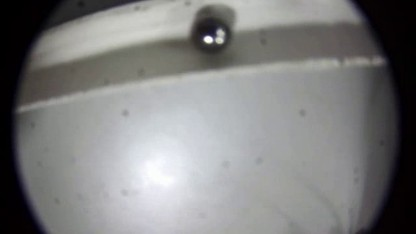gangzhu: (191, 17, 233, 53)
